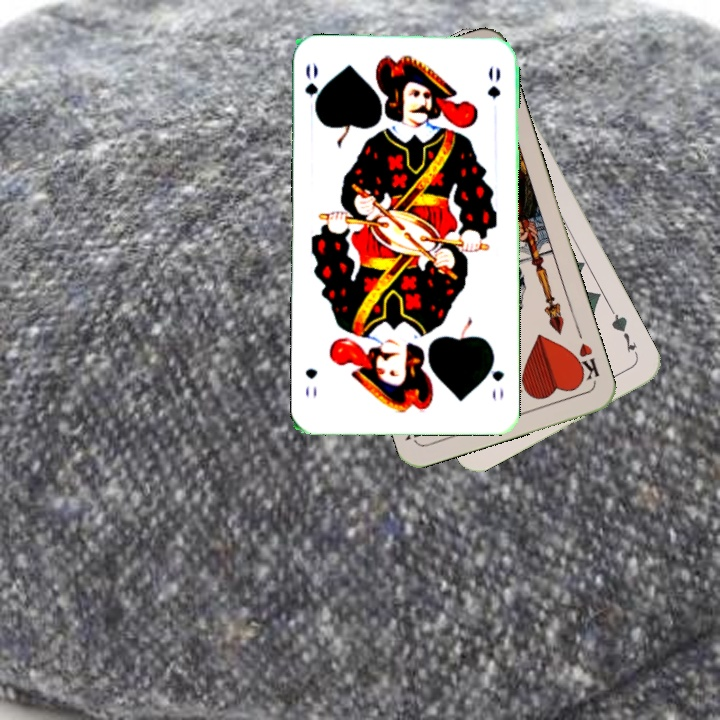G7: (607, 306, 641, 361)
GO: (301, 59, 325, 118), (484, 349, 507, 403)
HK: (569, 339, 602, 386)
